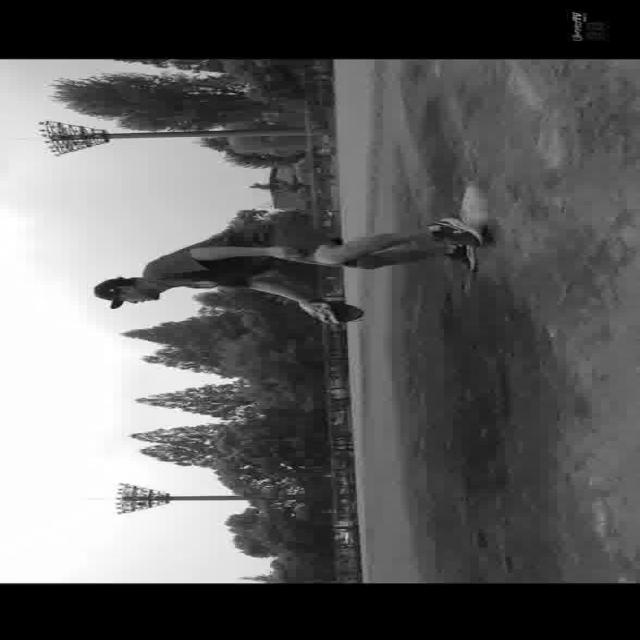base: (461, 182, 488, 230)
baseball_glove: (299, 297, 367, 323)
shoe: (425, 217, 481, 245), (450, 240, 482, 268)
